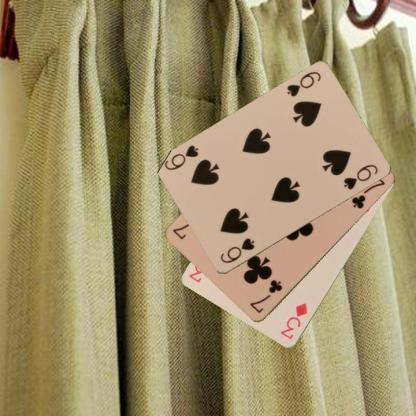3d: (278, 300, 309, 341)
6s: (217, 235, 256, 265), (284, 69, 322, 99)
7c: (246, 277, 284, 315)
